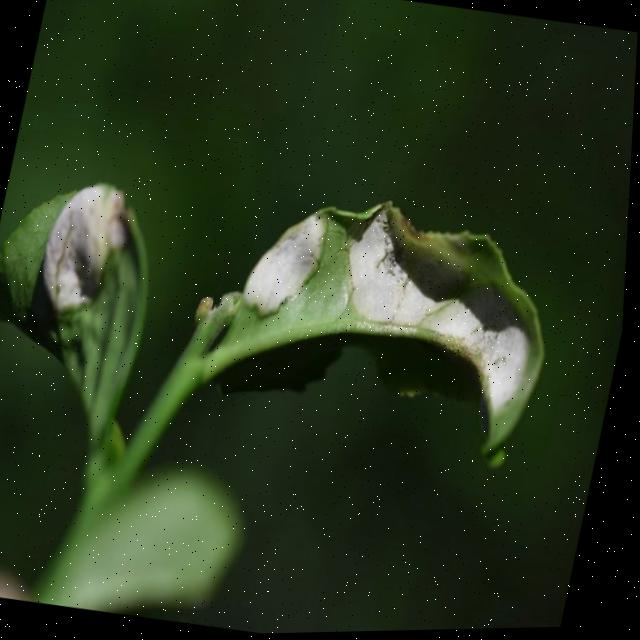Tea cake: (328, 188, 588, 448), (30, 176, 151, 316), (235, 184, 341, 319)
